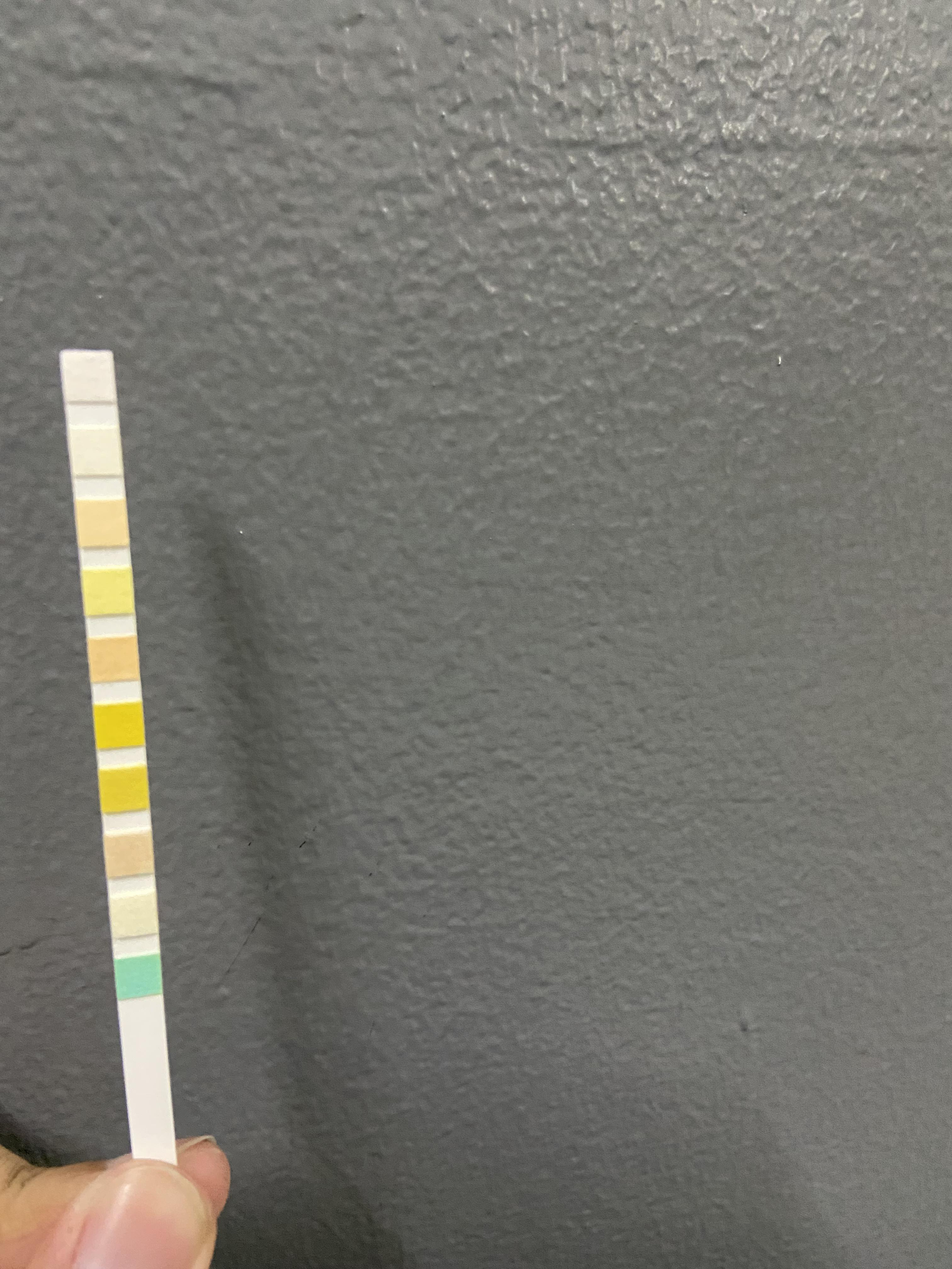Bilirubin: (112, 899, 156, 934)
Blood: (96, 704, 143, 745)
Glucose: (117, 960, 161, 994)
Ketone: (107, 836, 152, 872)
Leukocytes: (66, 354, 114, 399)
Nitrite: (72, 429, 119, 475)
Protein: (84, 570, 132, 612)
SpGravity: (101, 770, 148, 809)
Urobilinogen: (78, 502, 127, 545)
pH: (90, 639, 138, 680)
strip: (61, 349, 178, 1145)
